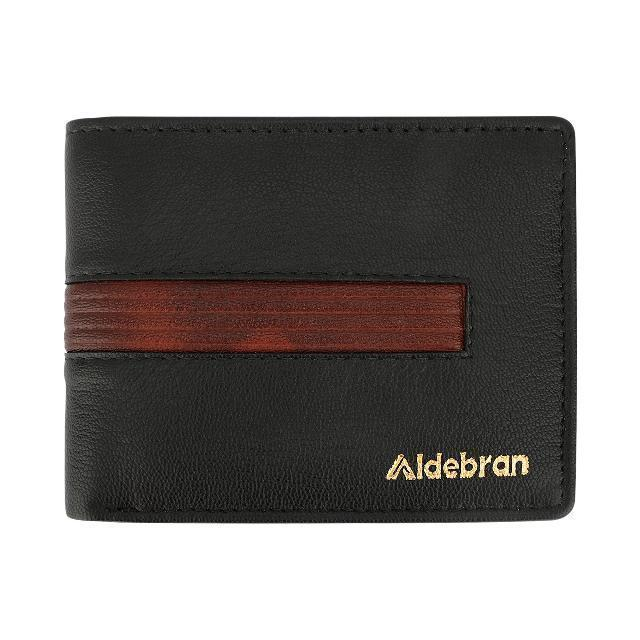wallet: (55, 111, 577, 525)
